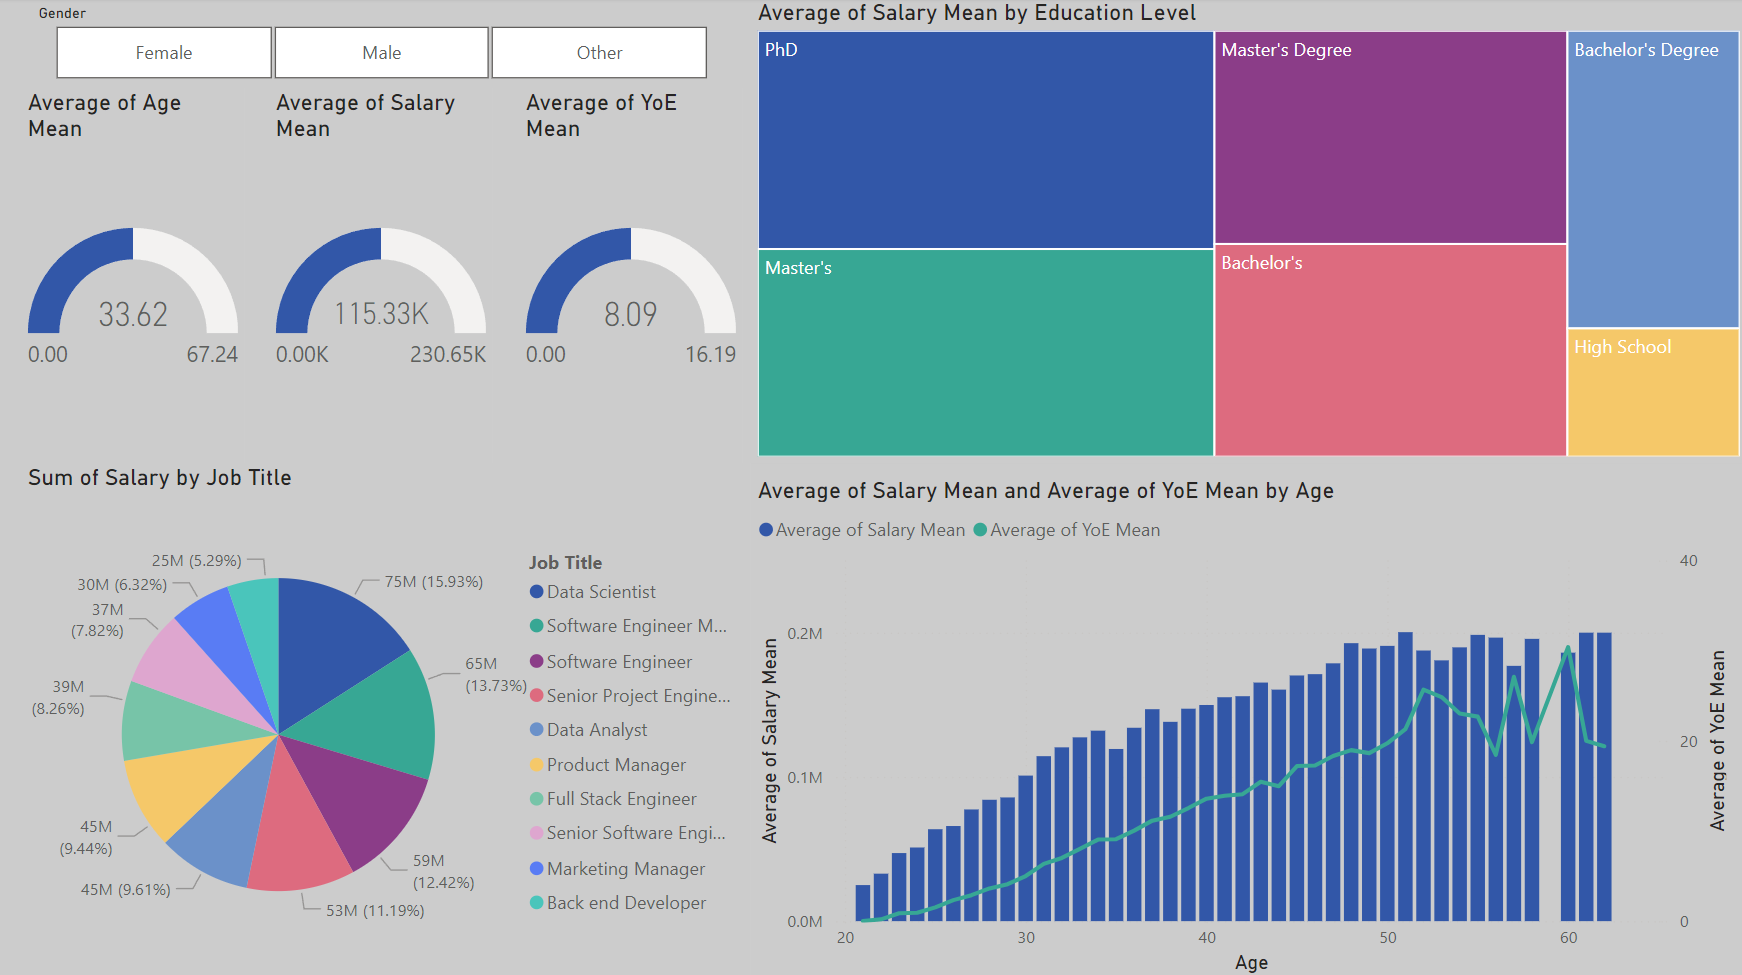

What the dashboard file says about the page in this screenshot:
{"tool":"powerbi","page":{"name":"Page 1","canvas":[1280,720],"ordinal":0},"visuals":[{"type":"lineClusteredColumnComboChart","fields":{"Category":["Salary Data.Age"],"Y2":["Avg(Statistics.YoE Mean)"],"Y":["Avg(Statistics.Salary Mean)"]},"box":[550.5,350.5,720.2,369.7],"z":0},{"type":"slicer","fields":{"Values":["Salary Data.Gender"]},"box":[15.1,0,527.2,65.7],"z":1000},{"type":"treemap","fields":{"Group":["Salary Data.Education Level"],"Values":["Avg(Statistics.Salary Mean)"]},"box":[550.4,0,729.9,341.3],"z":2000},{"type":"pieChart","fields":{"Category":["Salary Data.Job Title"],"Y":["Sum(Salary Data.Salary)"]},"box":[15.1,341,535.4,379.3],"z":3000},{"type":"gauge","fields":{"Y":["Avg(Statistics.Age Mean)"]},"box":[15.1,65.7,164.3,275.2],"z":3001},{"type":"gauge","fields":{"Y":["Avg(Statistics.Salary Mean)"]},"box":[197.2,65.7,164.3,275.2],"z":3002},{"type":"gauge","fields":{"Y":["Avg(Statistics.YoE Mean)"]},"box":[380.7,65.7,164.3,275.2],"z":3003}]}

Visuals, with their boxes in screenshot pixels (x1, y1, x2, y2), scaled from the page's 1280x720 canvas onto the 1742x975 screenshot:
lineClusteredColumnComboChart - Salary Data.Age x Avg(Statistics.YoE Mean): bbox(749, 475, 1729, 974)
slicer - Salary Data.Gender: bbox(21, 0, 738, 89)
treemap - Salary Data.Education Level x Avg(Statistics.Salary Mean): bbox(749, 0, 1741, 462)
pieChart - Salary Data.Job Title x Sum(Salary Data.Salary): bbox(21, 462, 749, 974)
gauge - Avg(Statistics.Age Mean): bbox(21, 89, 244, 462)
gauge - Avg(Statistics.Salary Mean): bbox(268, 89, 492, 462)
gauge - Avg(Statistics.YoE Mean): bbox(518, 89, 742, 462)
